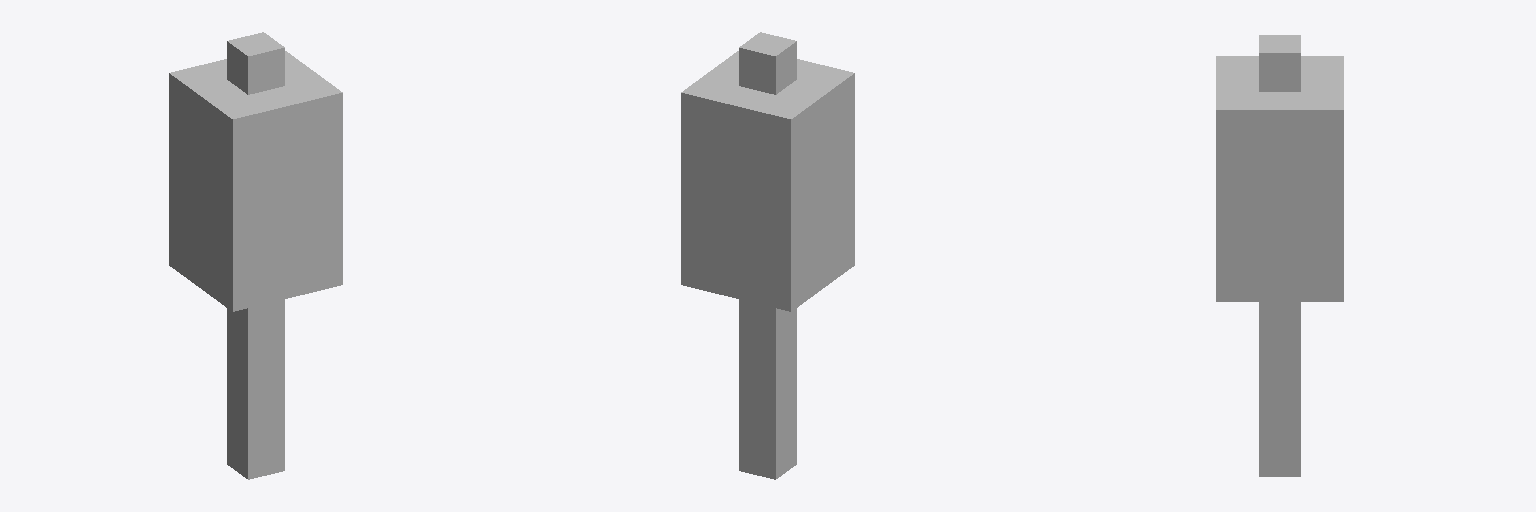
Rendered from custom_model.obj.
3 views of the same model, side by side, from view 1: azimuth 30°, elevation 25°; view 2: azimuth 150°, elevation 25°; view 3: azimuth 270°, elevation 25° (orthographic).
Visible parts, largest first — view 1: cube, manche, base, manche2; view 2: cube, manche, base, manche2; view 3: cube, manche, base, manche2.
Part boxes in pixels (bbox=[...]): cube: bbox=[169, 51, 342, 272]; manche: bbox=[227, 299, 284, 479]; base: bbox=[169, 227, 342, 311]; manche2: bbox=[227, 32, 284, 94]; cube: bbox=[681, 51, 854, 272]; manche: bbox=[739, 299, 796, 479]; base: bbox=[681, 227, 854, 311]; manche2: bbox=[739, 32, 796, 94]; cube: bbox=[1216, 56, 1343, 263]; manche: bbox=[1259, 302, 1300, 476]; base: bbox=[1216, 264, 1343, 301]; manche2: bbox=[1259, 35, 1300, 91].
Size of the model in its own units: 0.1875 by 0.6875 by 0.1875.